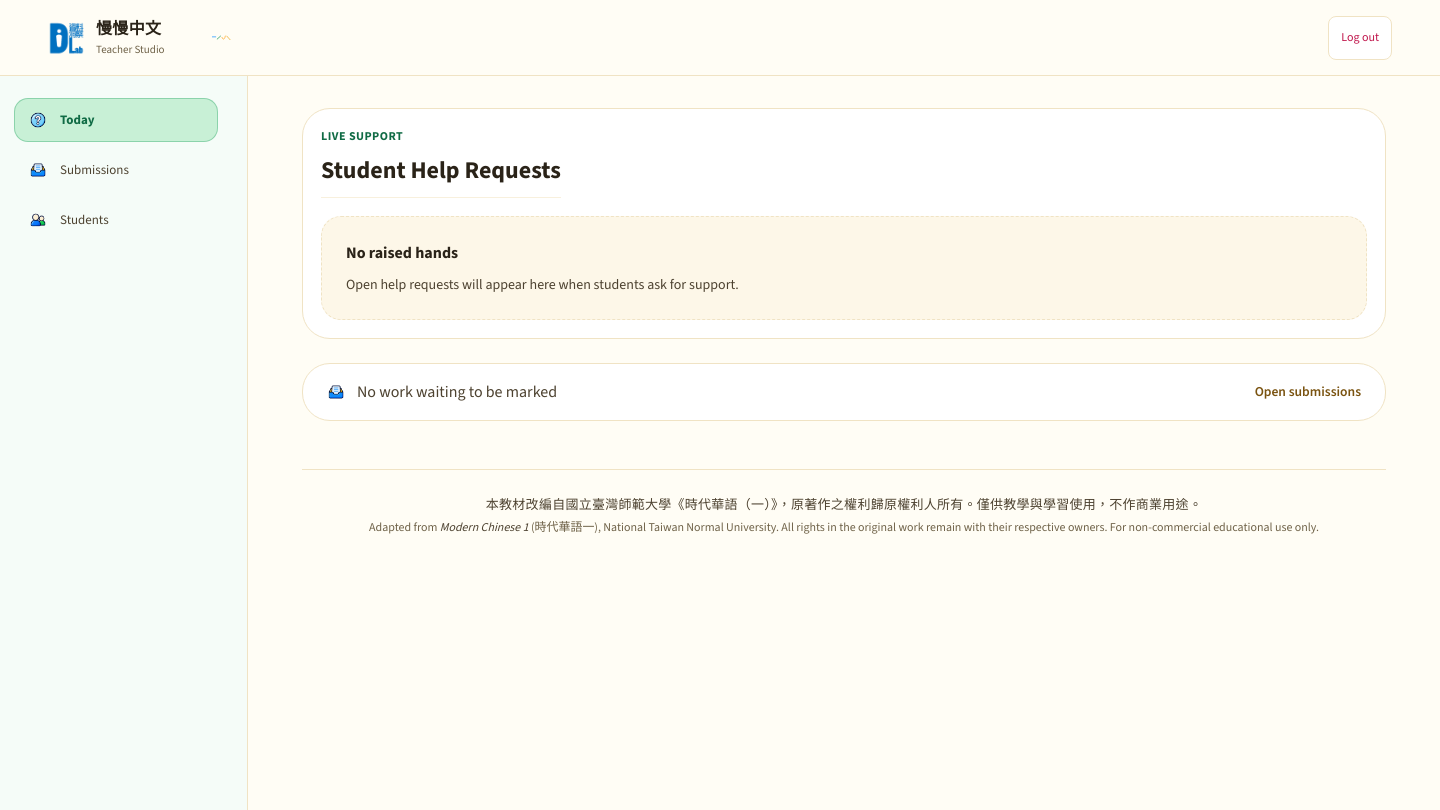
Test: Quiz analytics on the Students view › loads quiz attempts scoped to the dashboard's recent history window
What coordinates should you click on to do the following:
click the button "Students"
I would click on:
 (116, 220)
Its box is [14,198,218,242].
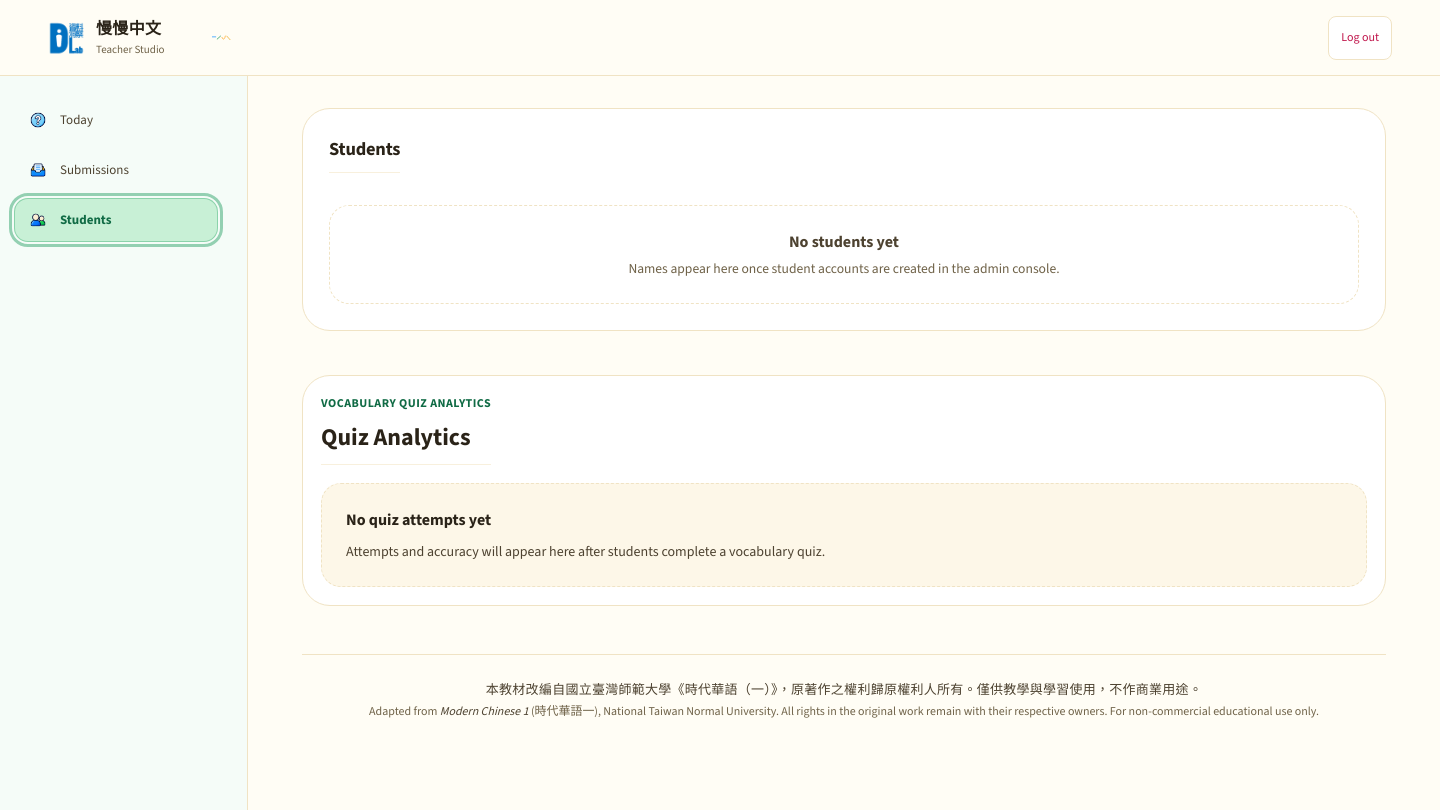
Check: the text "No quiz attempts yet" is shown, box [346,509,491,530]
